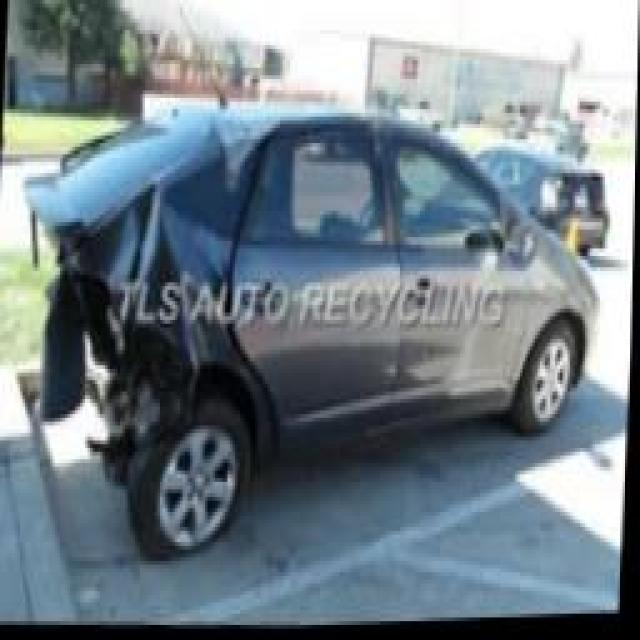Bumper: (15, 282, 139, 486)
Fender: (115, 154, 232, 365)
Light: (68, 271, 94, 351)
